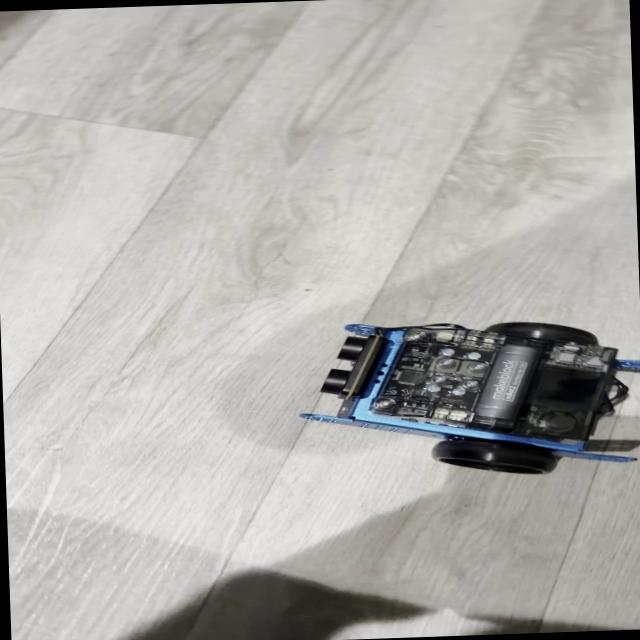mbot-detection: (285, 302, 640, 485)
